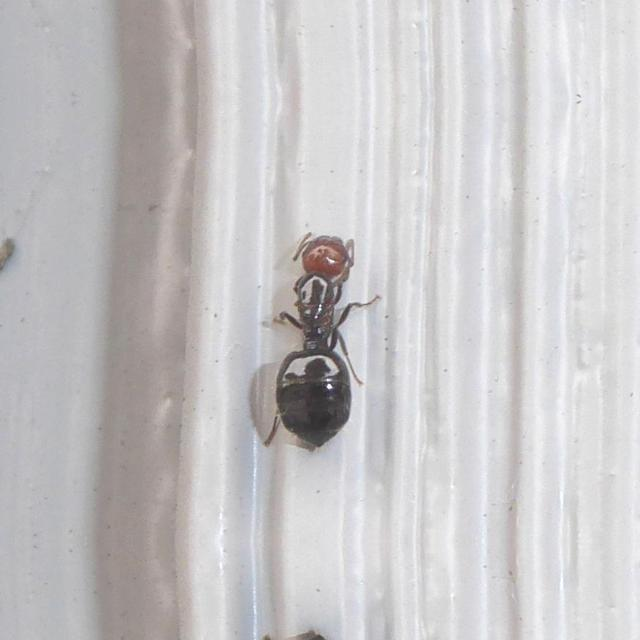Crematogaster: (240, 225, 376, 440)
